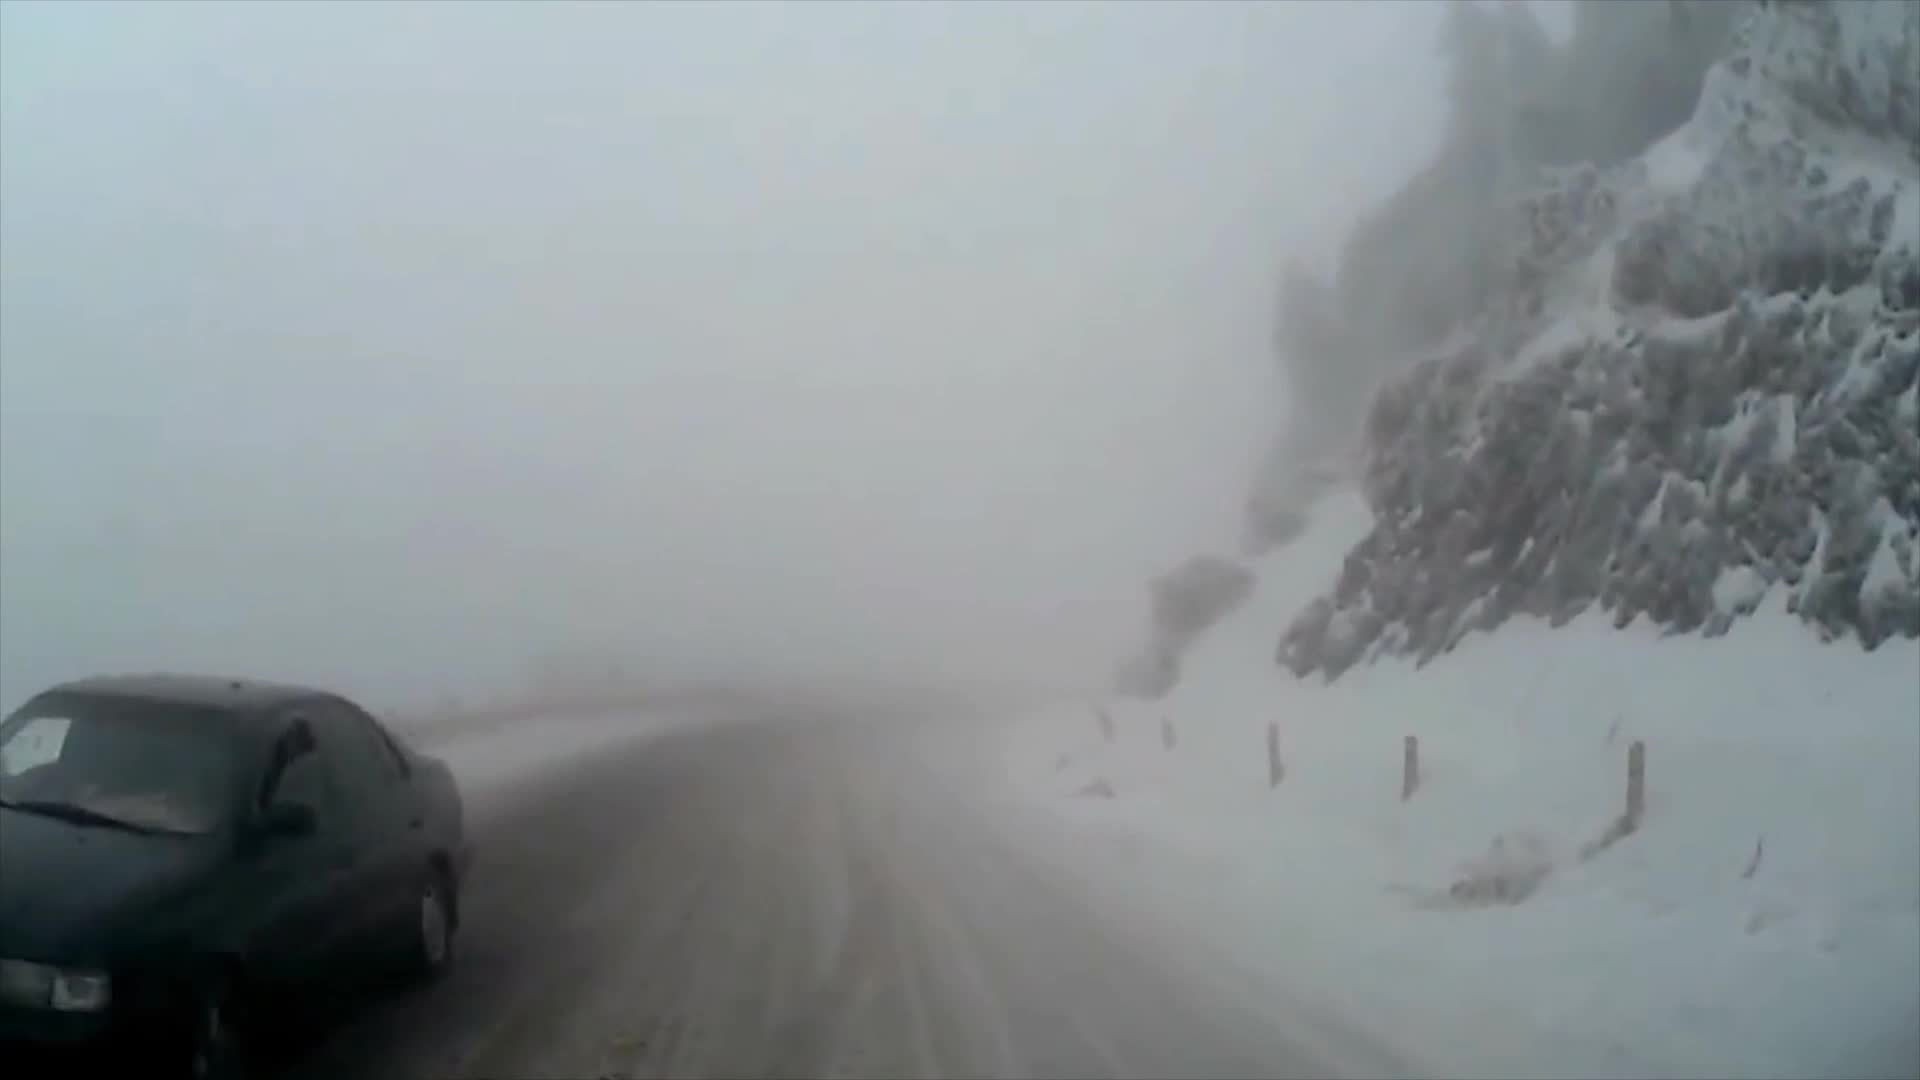vehicle: (0, 670, 472, 1080)
